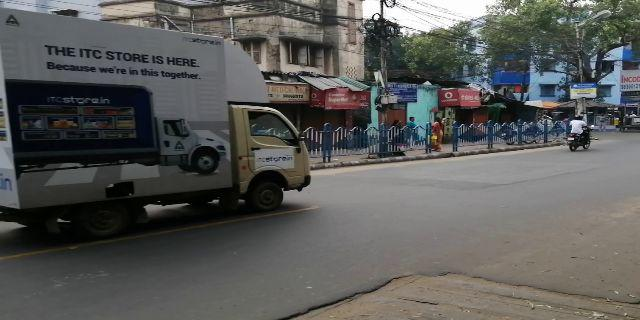Minitruck: (8, 10, 314, 242)
Motorbike: (565, 113, 592, 150)
